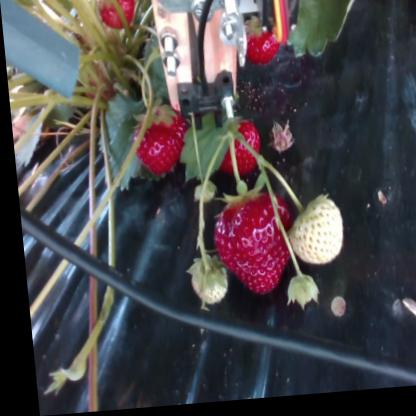ripe: (210, 202, 288, 297), (128, 113, 184, 173), (212, 124, 258, 180), (239, 24, 283, 70), (99, 0, 159, 32)
unripe: (282, 204, 343, 271), (181, 260, 219, 305)
